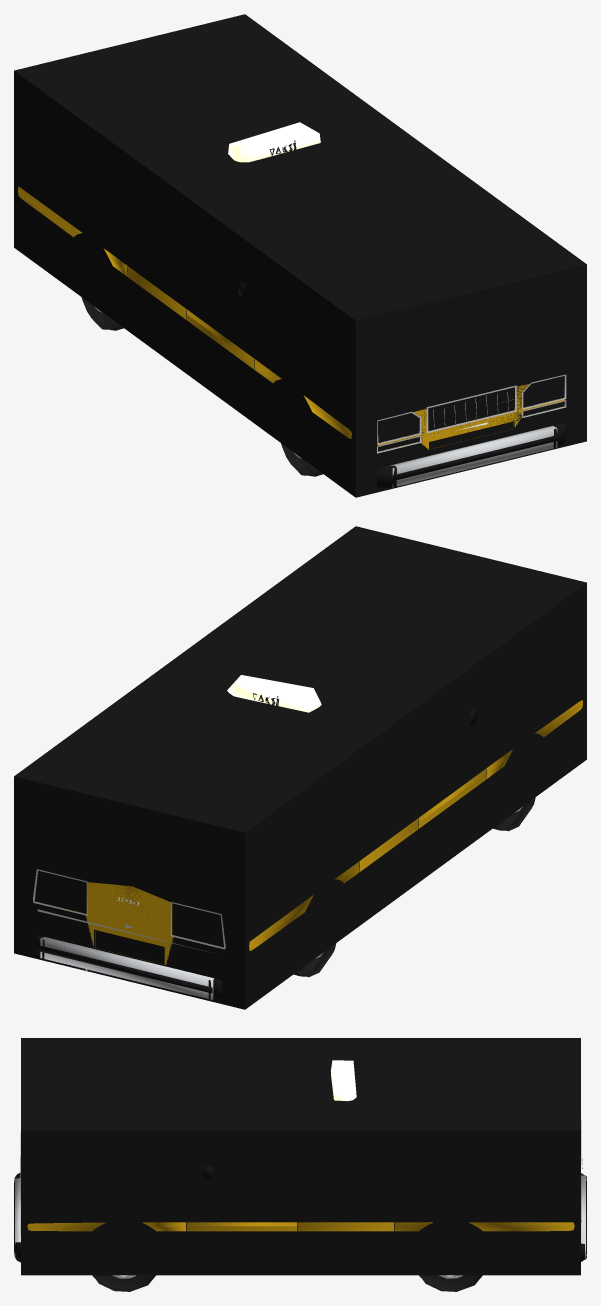
File: atmaca_taxi_lod2.glb
3 views of the same model, one above another, from view 1: azimuth 30°, elevation 25°; view 2: azimuth 150°, elevation 25°; view 3: azimuth 270°, elevation 25° (orthographic). The views are drawn at different scales.
Visible parts, largest first — view 1: col_body, trim, body; view 2: col_body, trim, body; view 3: col_body, body, trim, wheel_FL, wheel_RL.
Boxes of the visible parts, <box> form: col_body: <box>14,14,586,497</box>; trim: <box>228,122,566,487</box>; body: <box>18,186,564,451</box>; col_body: <box>14,526,586,1009</box>; trim: <box>33,675,476,999</box>; body: <box>35,700,582,964</box>; col_body: <box>21,1038,580,1275</box>; body: <box>27,1222,574,1231</box>; trim: <box>14,1060,586,1262</box>; wheel_FL: <box>92,1275,155,1291</box>; wheel_RL: <box>419,1275,482,1291</box>.
Bounding box in the file's own units: 1.65 × 1.46 × 4.3.
